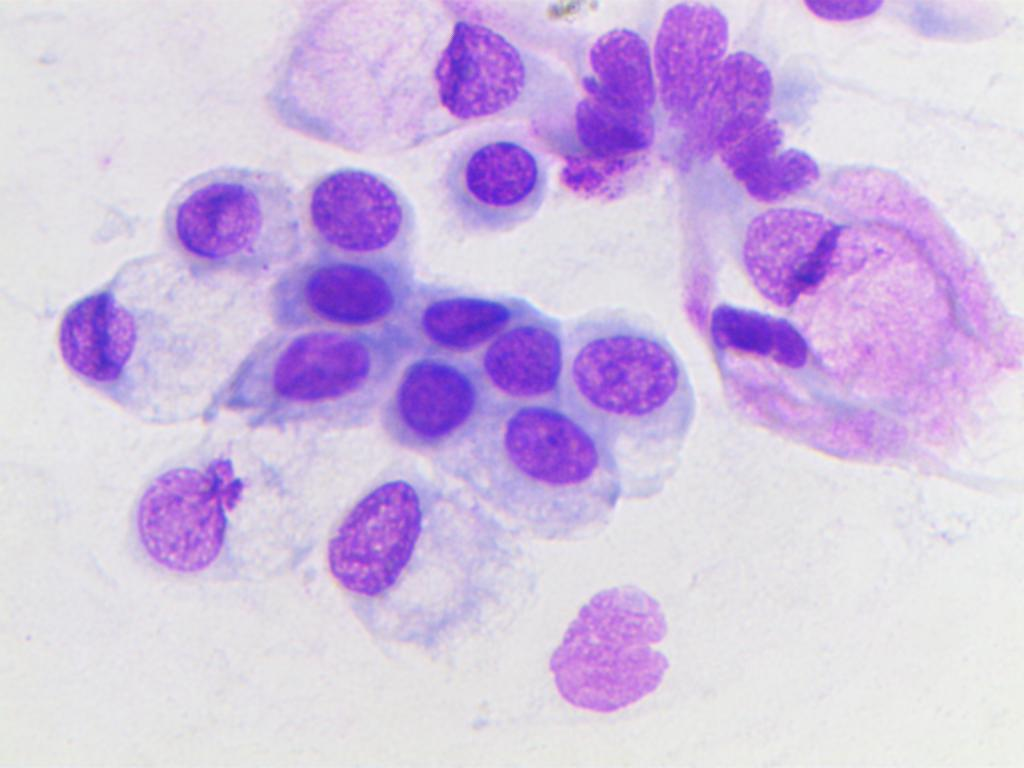epithelial: (544, 558, 704, 736), (112, 432, 274, 588), (138, 134, 307, 266), (225, 327, 382, 431), (474, 399, 599, 515), (559, 23, 661, 157), (298, 156, 421, 258), (562, 327, 693, 418), (265, 251, 405, 332), (676, 51, 788, 151), (386, 355, 486, 449), (698, 302, 812, 384), (653, 1, 728, 117), (484, 308, 575, 400), (412, 294, 511, 347)
goblet_cell: (260, 13, 528, 142), (314, 463, 494, 649), (55, 266, 240, 415), (729, 202, 922, 307)
lymphocyte: (436, 130, 554, 233)
